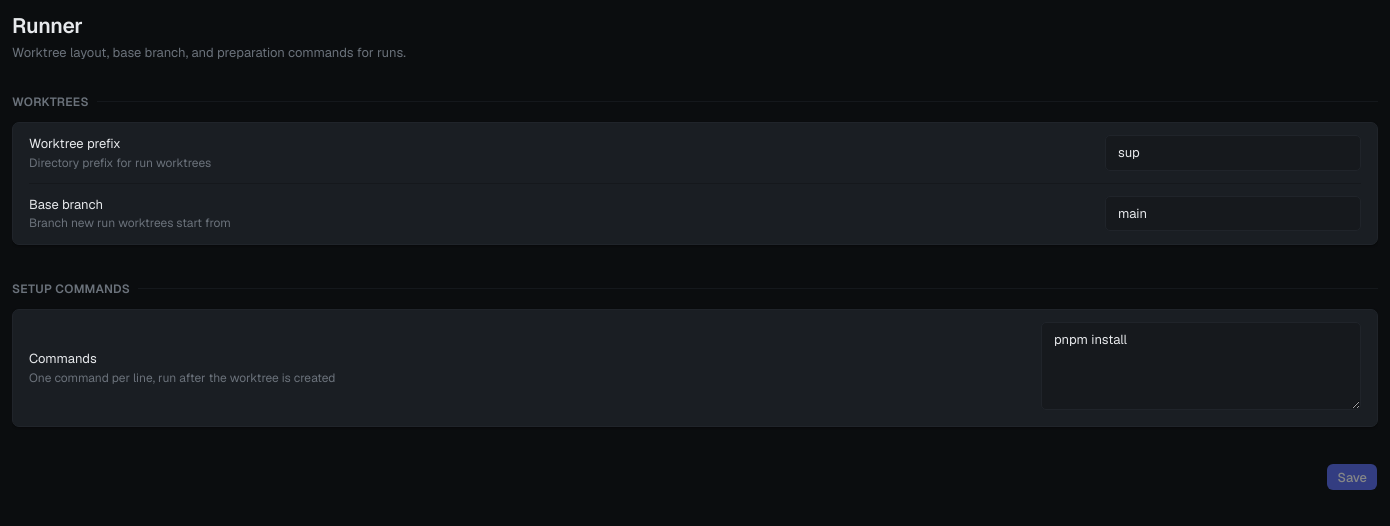
SettingsPaneRunner › saves the edited config and toasts on success
Clear the field named "Worktree prefix": (1233, 153) [1105,135,1361,171]
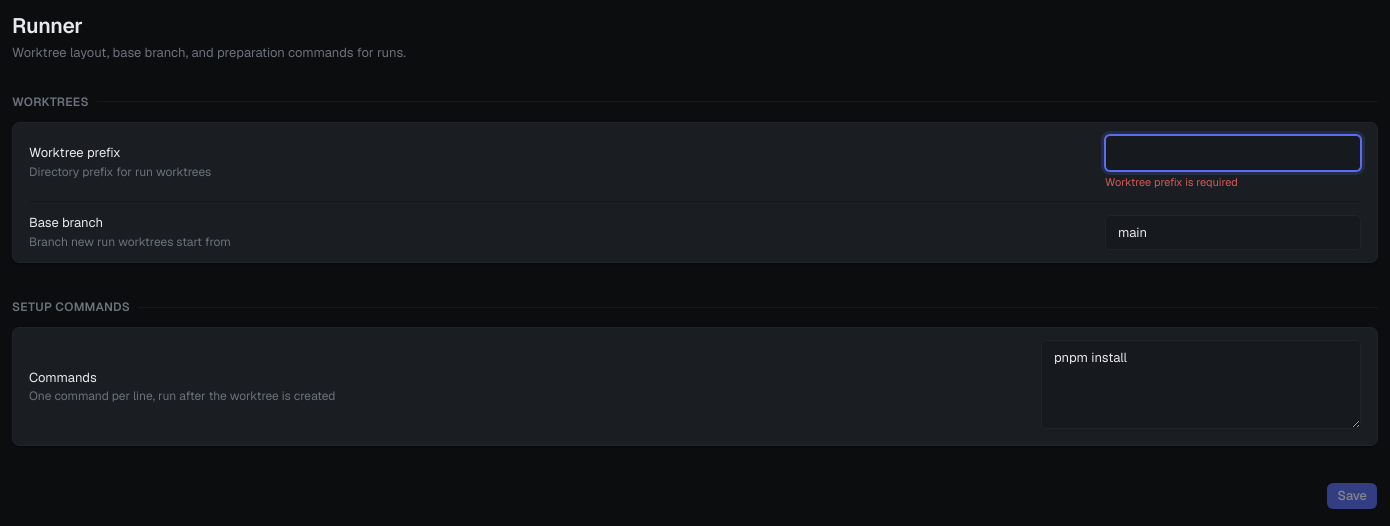
In the field named "Worktree prefix": (1233, 153) [1105,135,1361,171], type "sup-2"
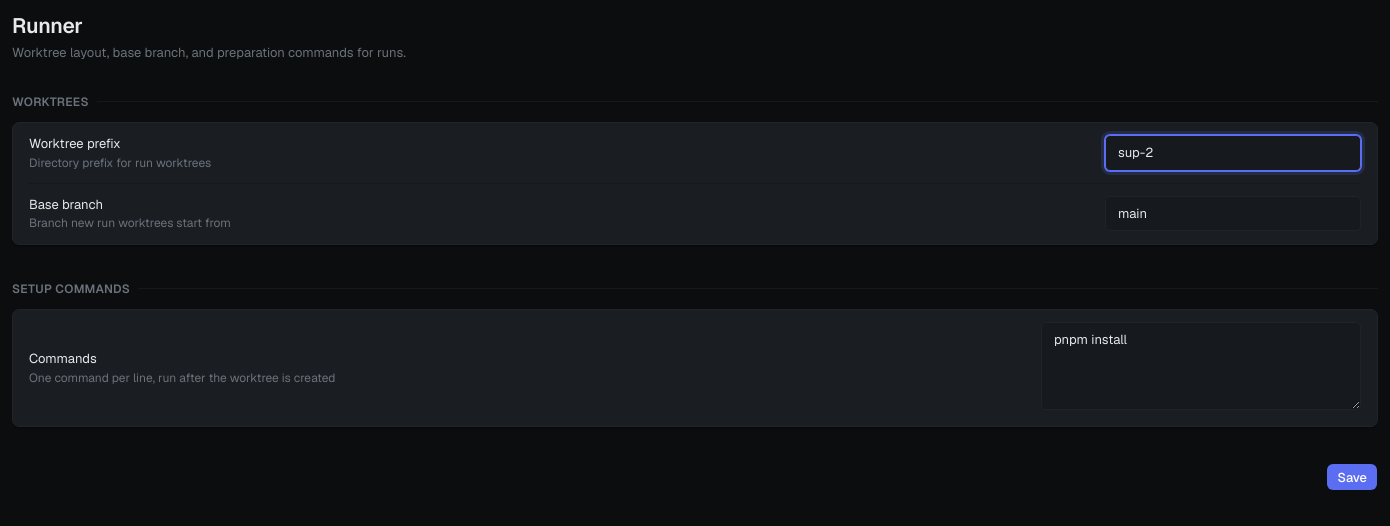
Click the button "Save": (1352, 478) [1326,464,1378,492]
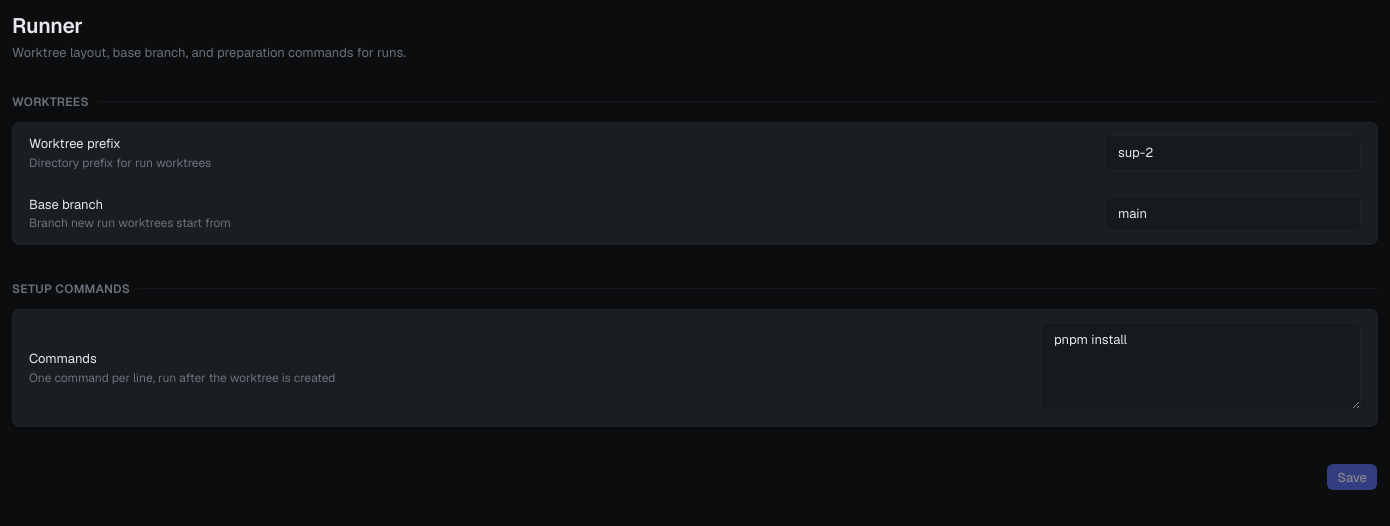
Result: the button "Save" is disabled at [1326,464,1378,492]
